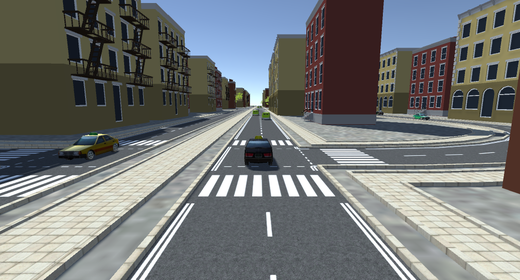centerstrip: (250, 126, 282, 278), (394, 149, 504, 158)
sidestripe: (132, 149, 228, 279), (314, 172, 419, 274)
